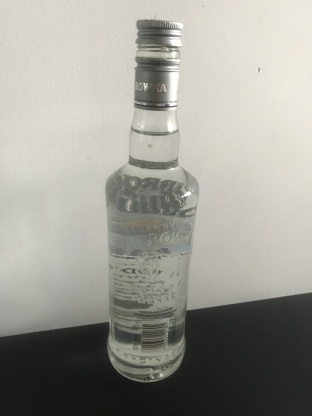nakretka: (132, 18, 184, 112)
